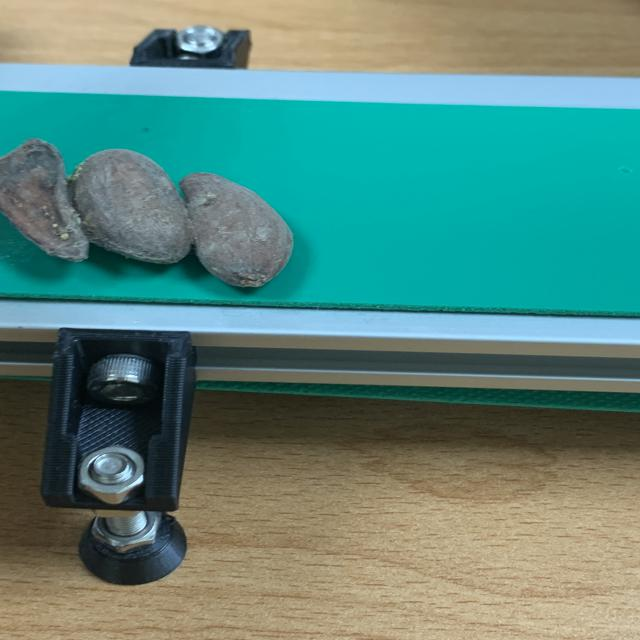Agglomerated_cocoabeans: (0, 113, 356, 314)
